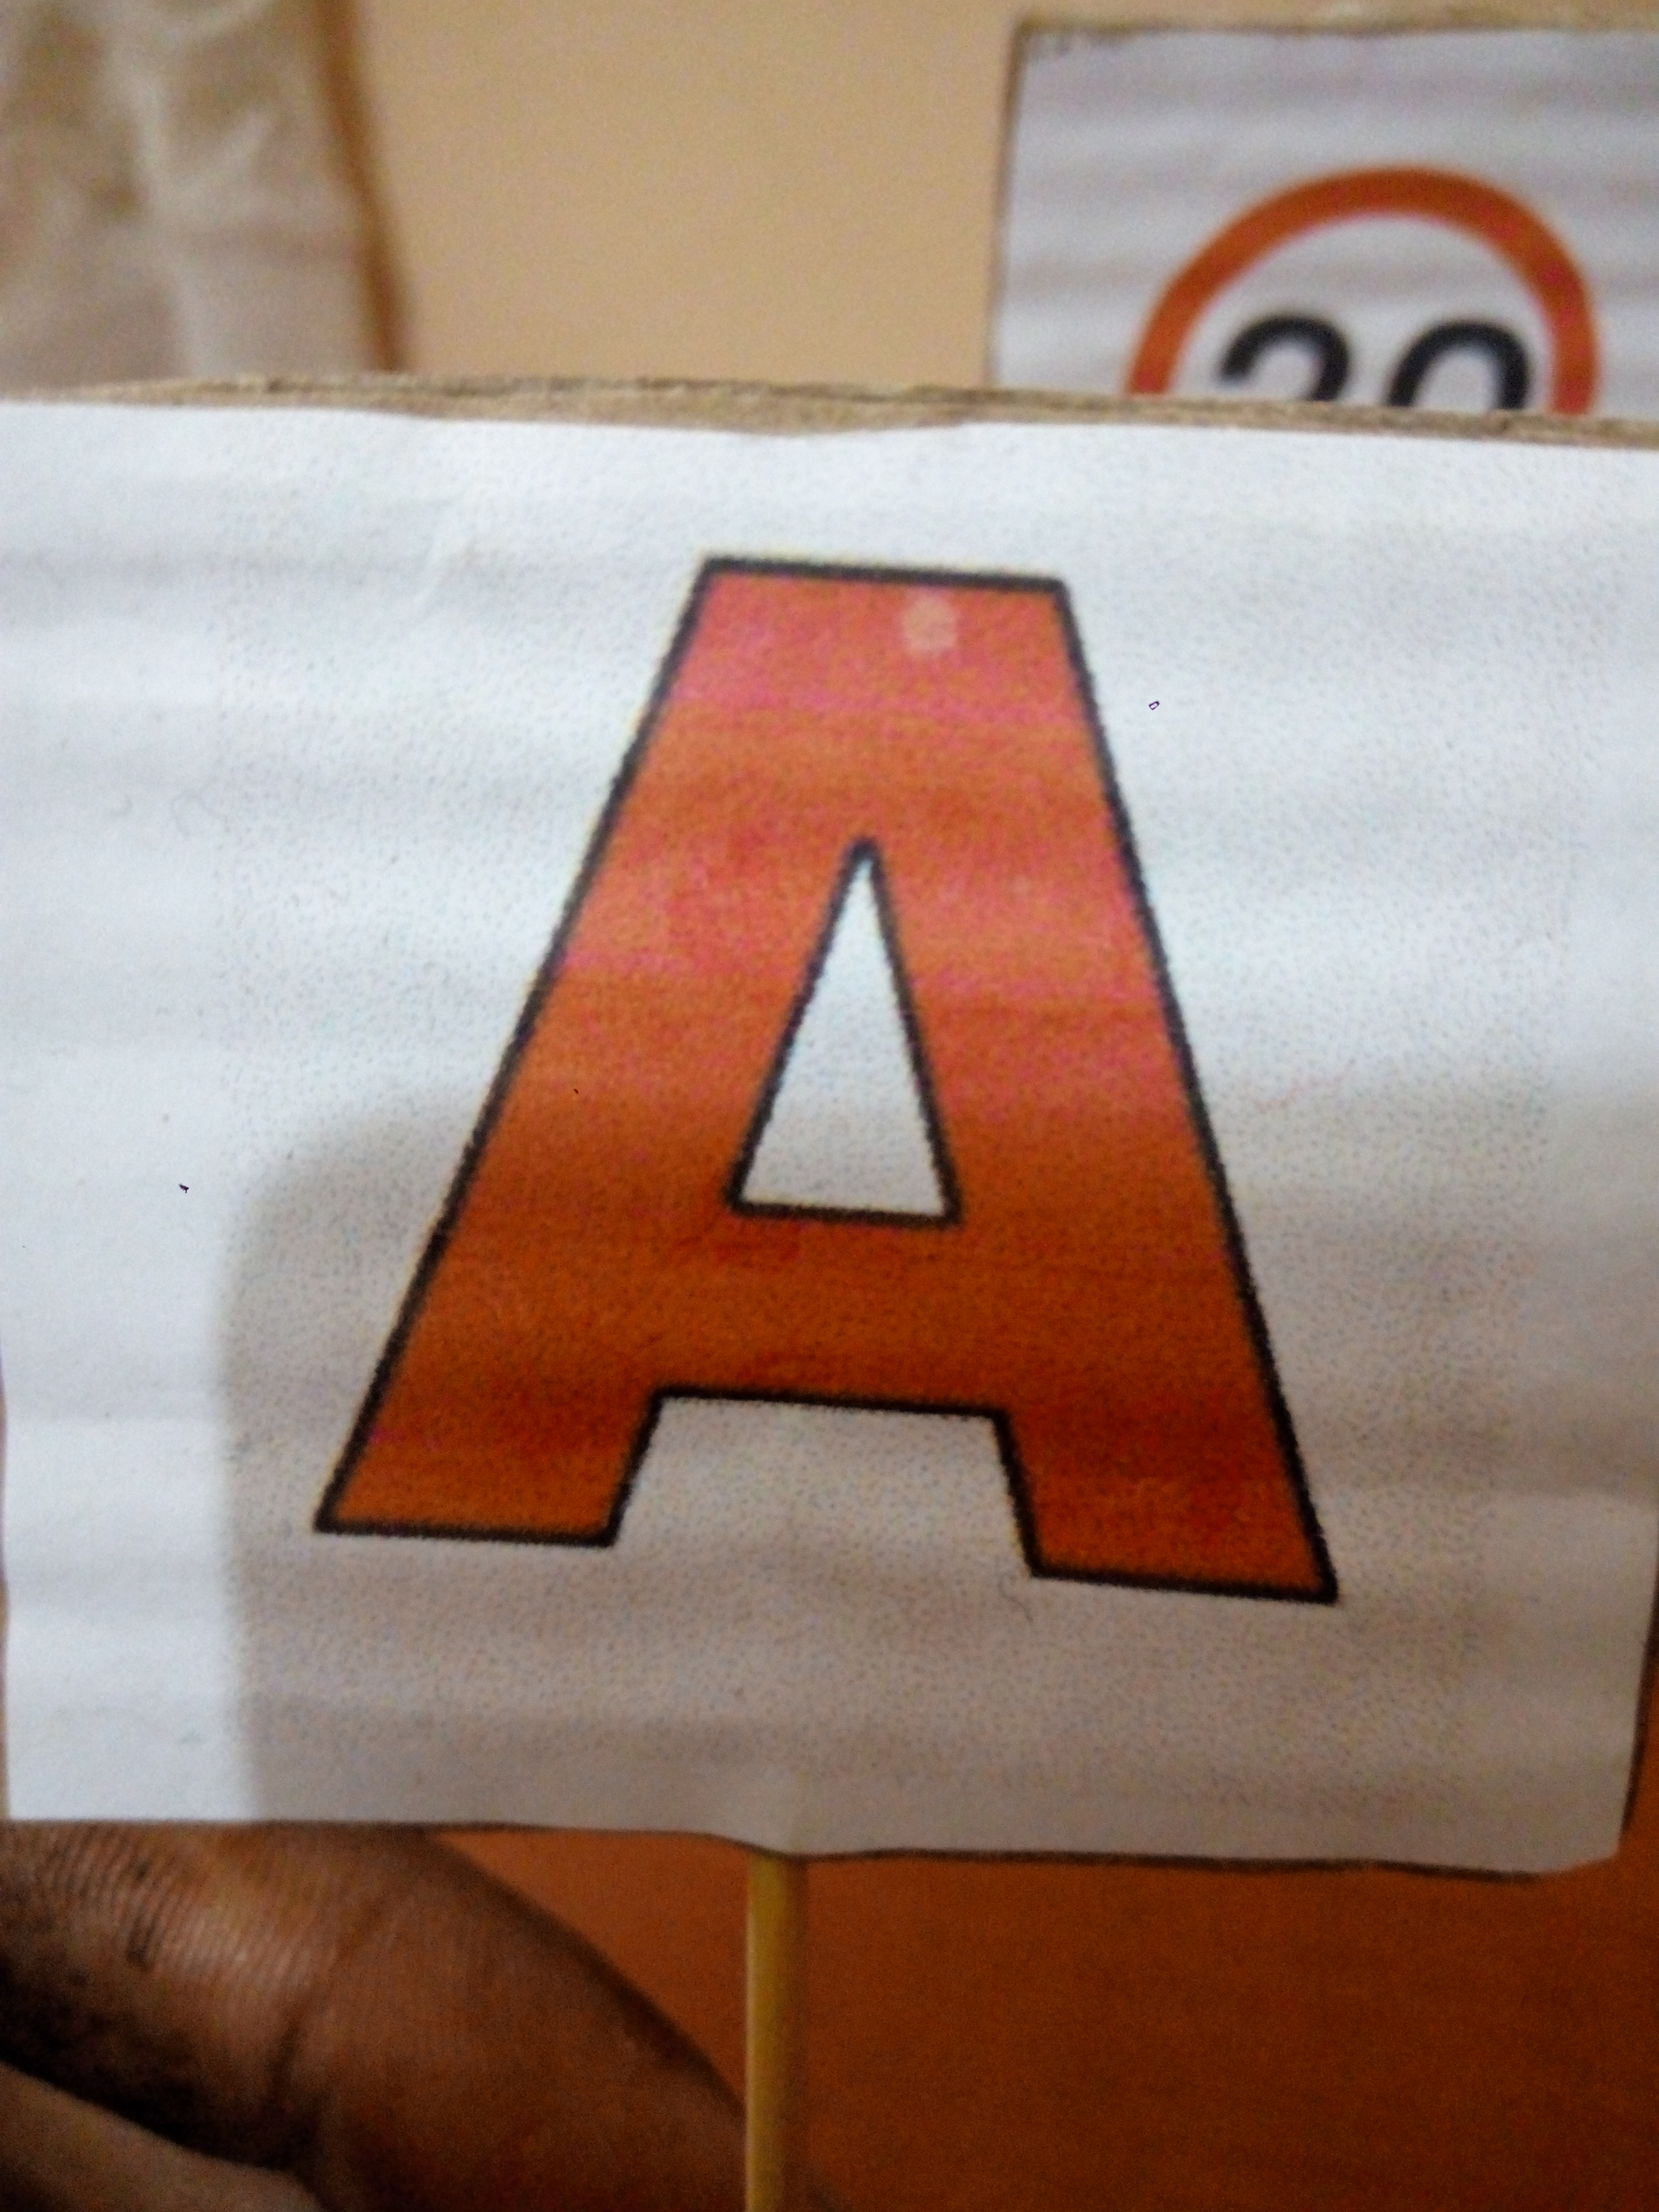zone A: (207, 479, 1445, 1716)
